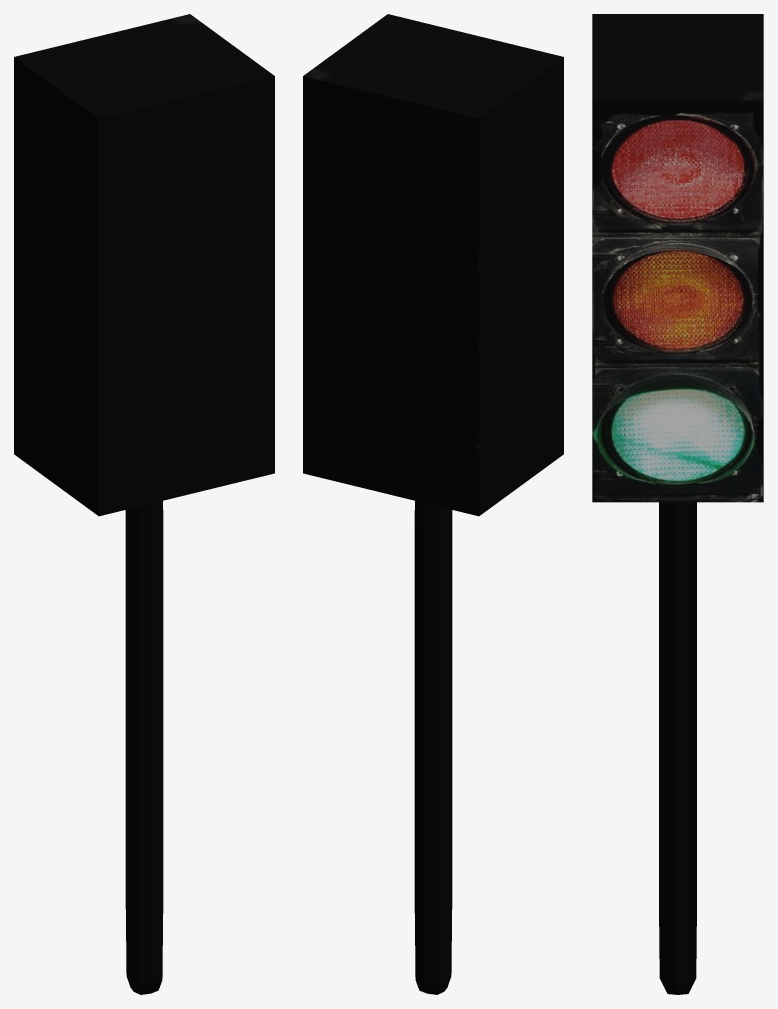
File: TTd.glb
The picture shows the model from 3 angles, left to right: view 1: azimuth 30°, elevation 25°; view 2: azimuth 150°, elevation 25°; view 3: azimuth 270°, elevation 25°; orthographic projection.
Parts seen in each view (by area): view 1: Cube, Cube.001; view 2: Cube, Cube.001; view 3: Cube, Cube.001.
Boxes of the visible parts, x1,y1,x2,y2 form: Cube: [14, 14, 274, 516]; Cube.001: [125, 501, 163, 994]; Cube: [303, 14, 563, 516]; Cube.001: [414, 501, 452, 994]; Cube: [592, 14, 763, 502]; Cube.001: [659, 502, 696, 994].
Size of the model in its own units: 2 by 10.02 by 1.67.
Materials: 2 (1 with a texture image).
